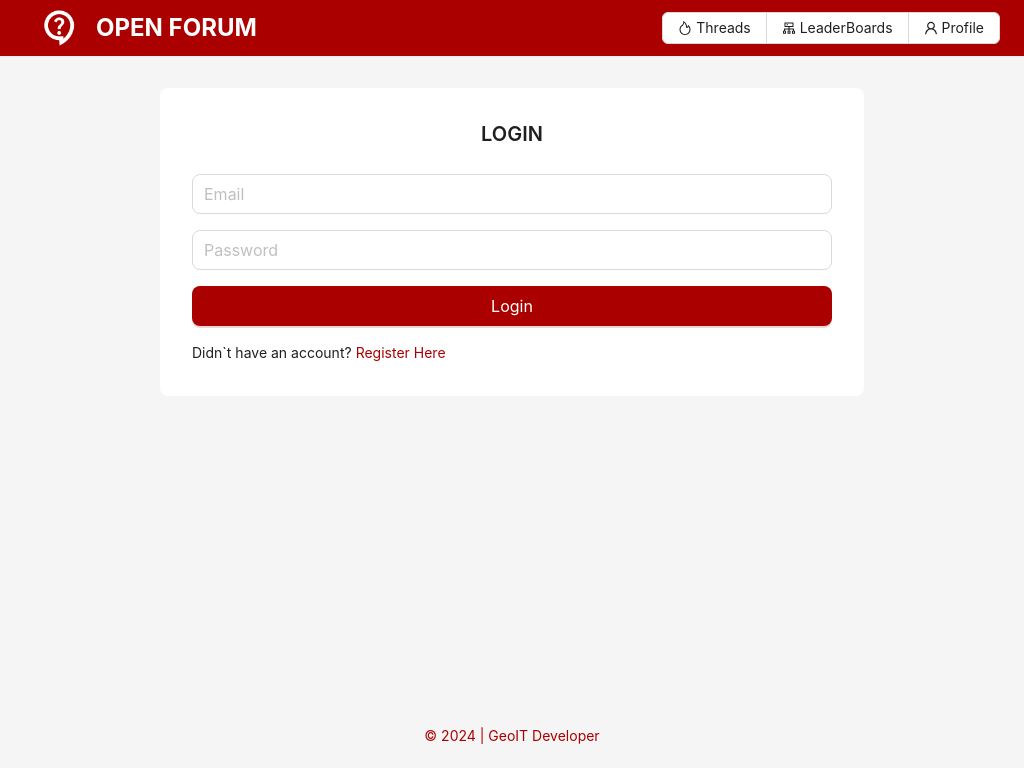
Test case: Login spec › should display alert when email is empty
Check: the field with placeholder "Email" is shown, box x1=192 y1=174 x2=832 y2=214
Click the button "Login": click(512, 306) x1=192 y1=286 x2=832 y2=326
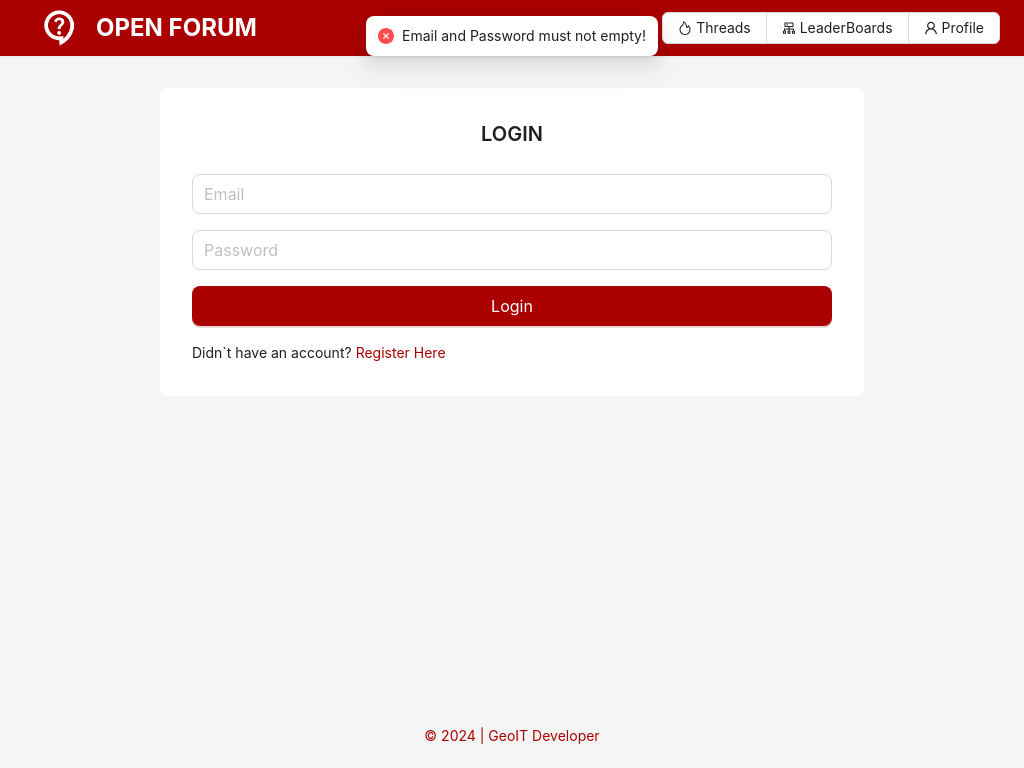
Check: the text "Email and Password must not empty!" is shown, box x1=366 y1=16 x2=658 y2=56
